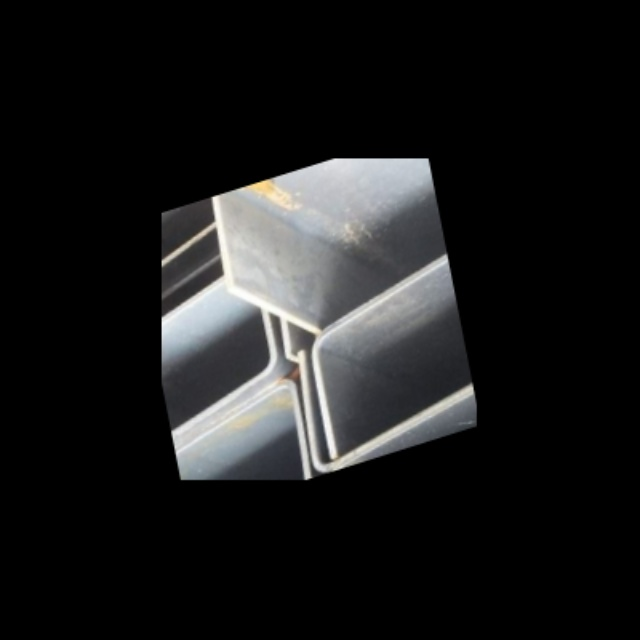Shveller: (284, 249, 477, 465), (299, 240, 477, 458), (211, 158, 441, 289), (162, 314, 288, 457), (162, 322, 297, 451), (302, 388, 477, 479), (315, 376, 477, 474), (170, 388, 307, 480)
